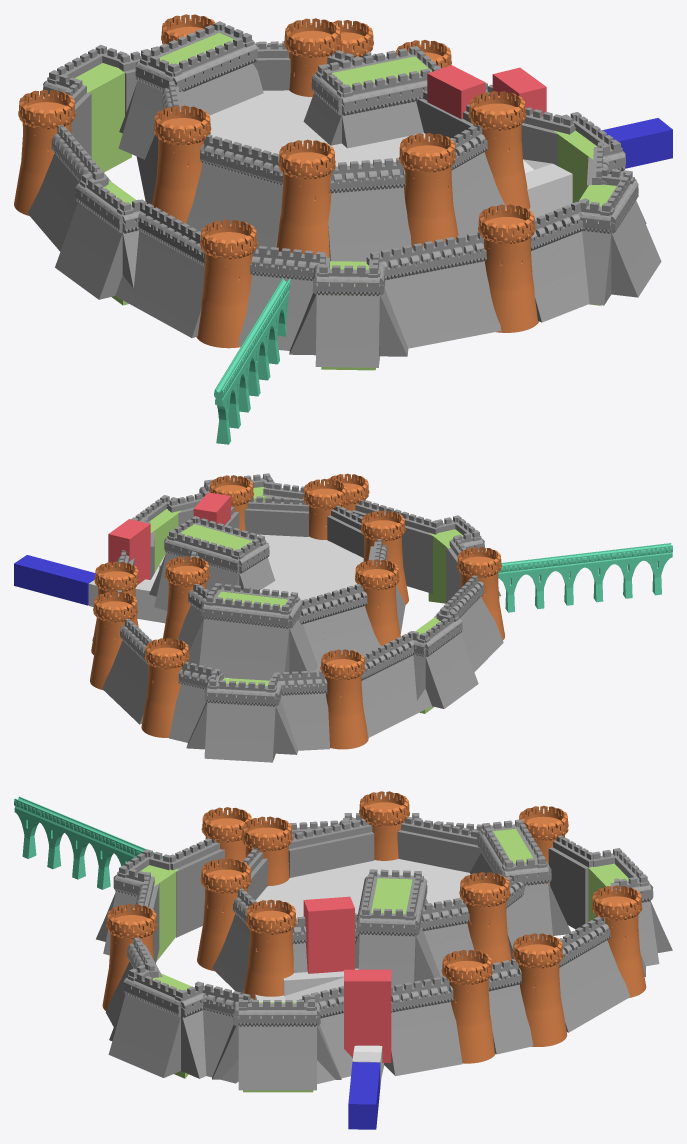
The model's file is castle.fbx.
3 renders of one model, top to bottom at view 1: azimuth 30°, elevation 25°; view 2: azimuth 150°, elevation 25°; view 3: azimuth 270°, elevation 25°, orthographic. The views are drawn at different scales.
Parts seen in each view (by area): view 1: Cube.008, Cube.010, Cube.021, Cube.020, Cube.037, Cylinder.001, Floor, Cube.040, Cylinder, Cylinder.008, Cube, Cylinder.010 (+39 smaller); view 2: Cube.053, Cube.043, Aqueduct, Floor, Cube.011, Cube.022, Cylinder.005, Cube.040, Cube.012, Cylinder.004, Cube.014, Cube.010 (+35 smaller); view 3: Cube.034, Cube.016, Cube.031, Cube.014, Floor, Aqueduct, Cylinder.006, Cylinder.003, Cylinder.009, Cube.002, Cube.021, Cube.046 (+40 smaller).
Boxes of the visible parts, <box> form: Cube.008: <box>366,232,501,348</box>; Cube.010: <box>115,199,204,337</box>; Cube.021: <box>186,134,282,250</box>; Cube.020: <box>328,158,411,261</box>; Cube.037: <box>315,265,380,367</box>; Cylinder.001: <box>196,219,257,348</box>; Floor: <box>209,90,429,166</box>; Cube.040: <box>55,174,133,299</box>; Cylinder: <box>478,204,538,332</box>; Cylinder.008: <box>276,139,335,257</box>; Cube: <box>531,198,610,322</box>; Cylinder.010: <box>399,133,458,248</box>; Cube.053: <box>199,596,291,680</box>; Cube.043: <box>204,680,276,762</box>; Aqueduct: <box>498,543,672,612</box>; Floor: <box>209,534,363,600</box>; Cube.011: <box>361,631,431,737</box>; Cube.022: <box>298,584,380,673</box>; Cylinder.005: <box>320,649,368,749</box>; Cube.040: <box>417,611,478,708</box>; Cube.012: <box>271,670,329,750</box>; Cylinder.004: <box>141,638,189,737</box>; Cube.014: <box>102,618,152,724</box>; Cube.010: <box>434,575,503,671</box>; Cube.034: <box>238,1000,316,1090</box>; Cube.016: <box>384,976,462,1076</box>; Cube.031: <box>108,969,183,1077</box>; Cube.014: <box>559,916,629,1032</box>; Floor: <box>255,859,470,920</box>; Aqueduct: <box>14,796,162,889</box>; Cylinder.006: <box>512,933,566,1046</box>; Cylinder.003: <box>441,950,495,1063</box>; Cylinder.009: <box>243,899,296,999</box>; Cube.002: <box>344,969,391,1062</box>; Cube.021: <box>288,819,374,877</box>; Cube.046: <box>358,908,416,988</box>.
Bounding box in the file's own units: 4723 × 1093 × 4717.
